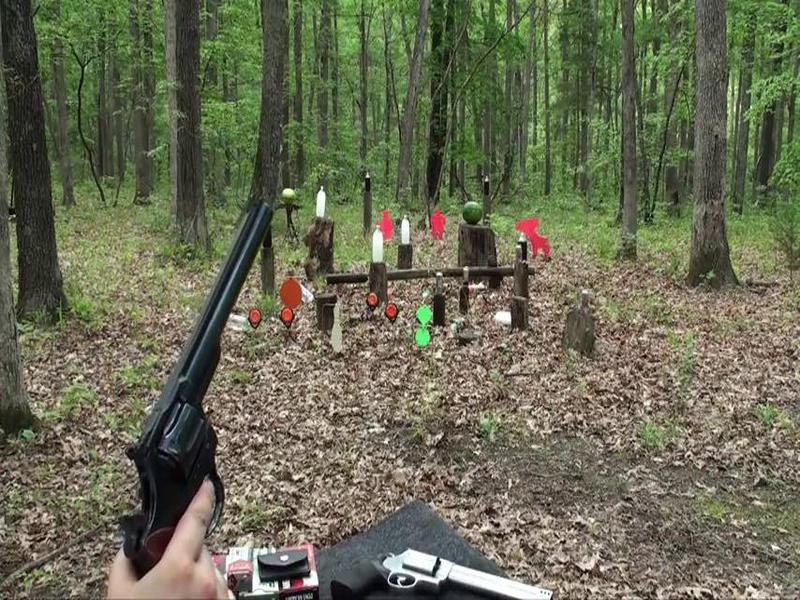Revolver: (122, 192, 278, 592)
